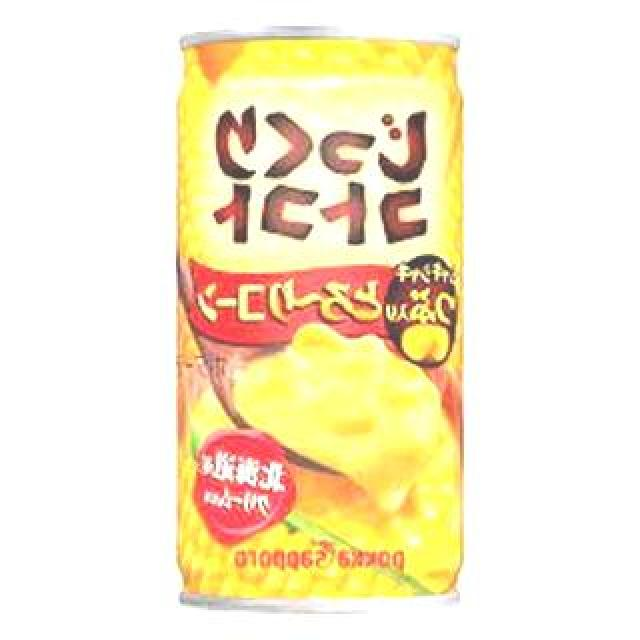Can: (160, 25, 466, 623)
